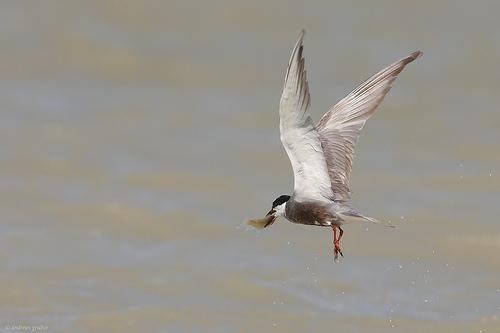bird: (245, 25, 426, 260)
